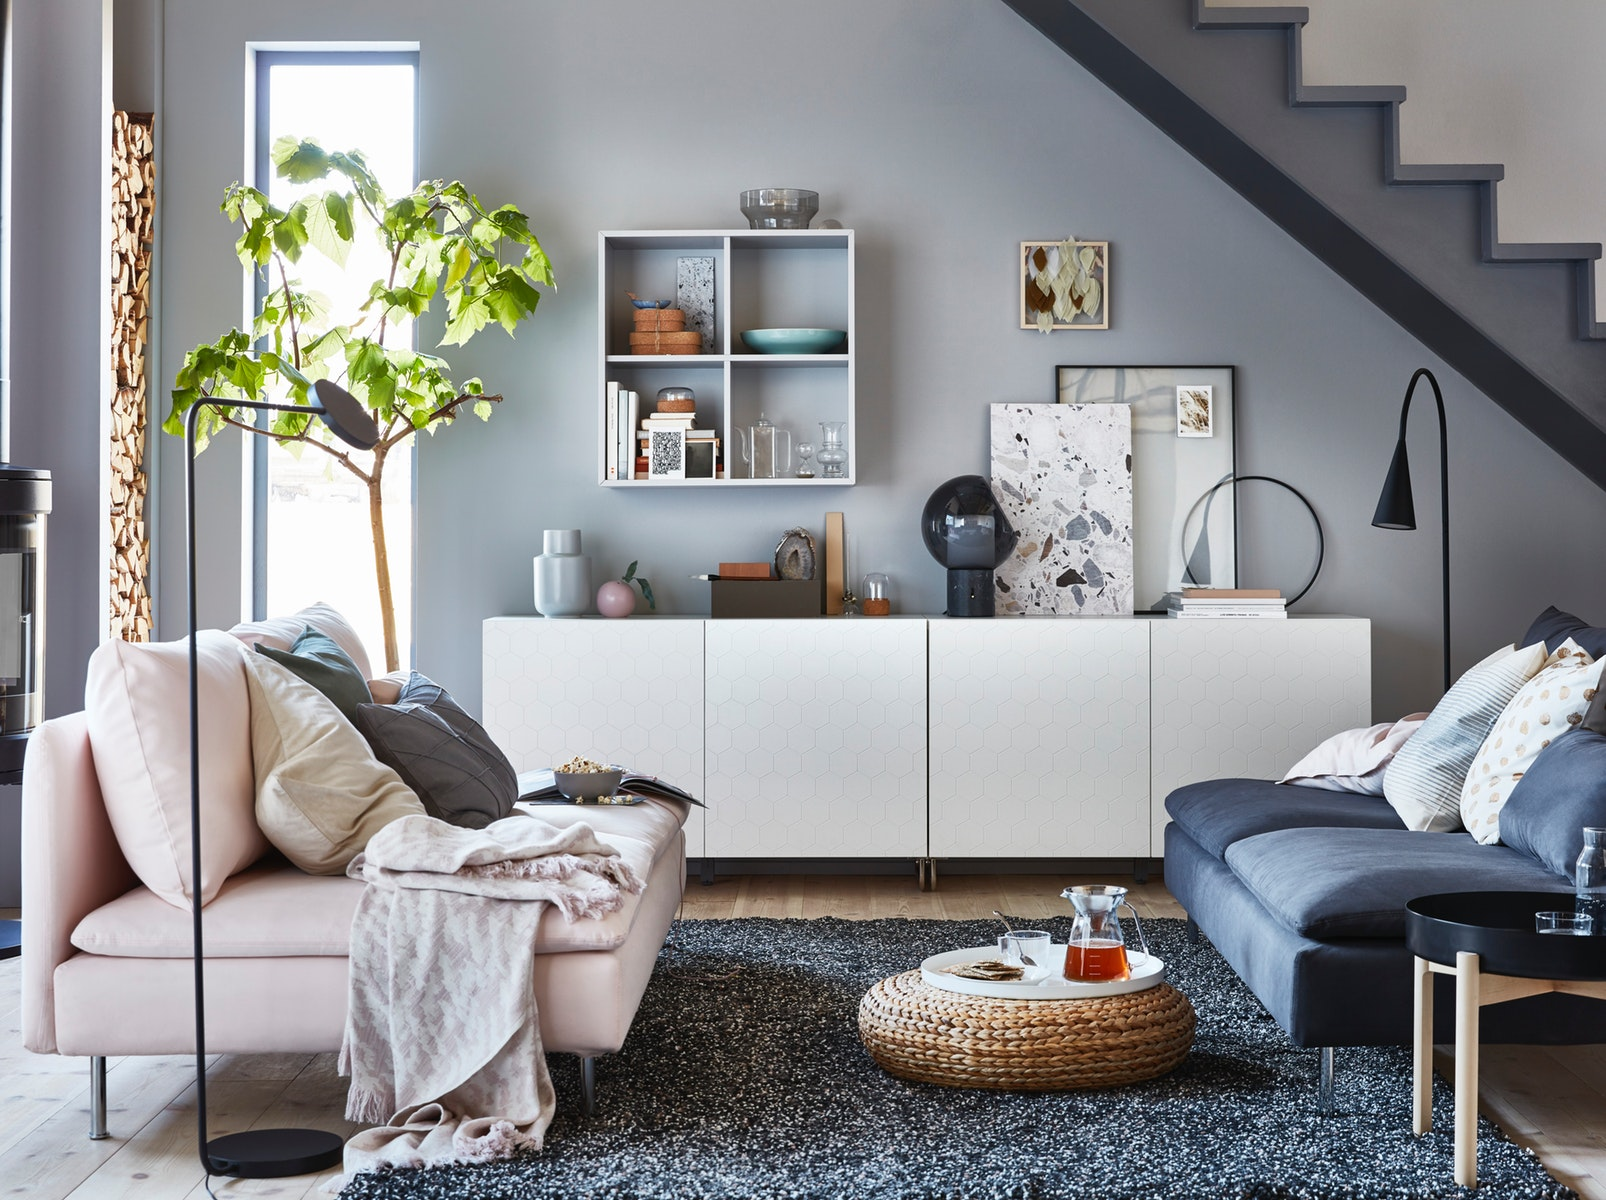bantal: (98, 626, 263, 903), (250, 647, 406, 870), (1383, 621, 1539, 831), (382, 668, 527, 834), (1488, 726, 1606, 863)
buku: (1162, 584, 1293, 626), (603, 379, 637, 476)
gelas: (1061, 884, 1136, 982), (991, 916, 1055, 986)
lukisan: (990, 397, 1142, 618)
sova: (21, 596, 690, 1132), (1166, 610, 1606, 1045)
tanaman: (183, 144, 483, 647)
